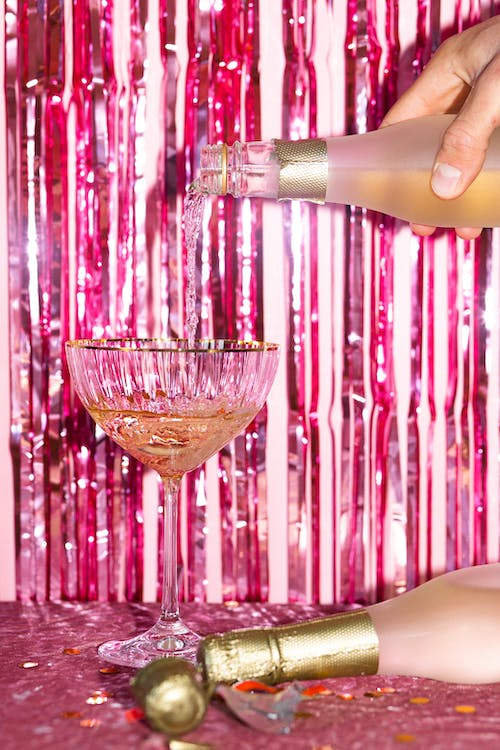alcohol: (62, 337, 282, 671), (193, 560, 500, 690), (199, 112, 500, 229)
